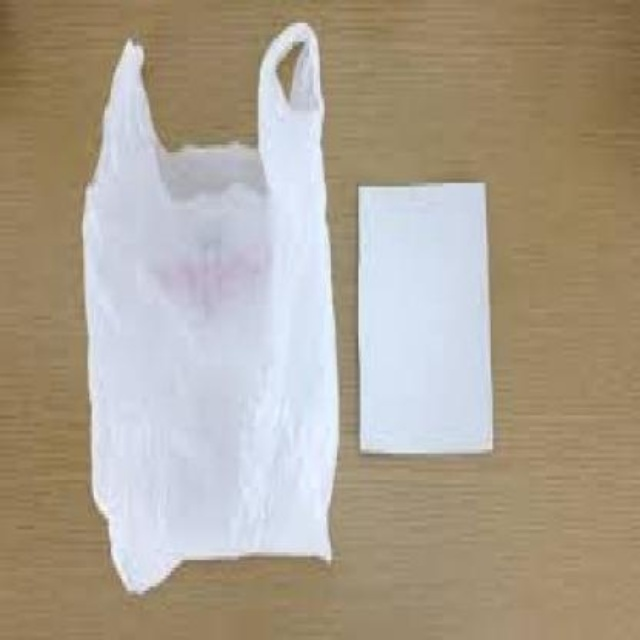trash: (83, 23, 337, 591)
